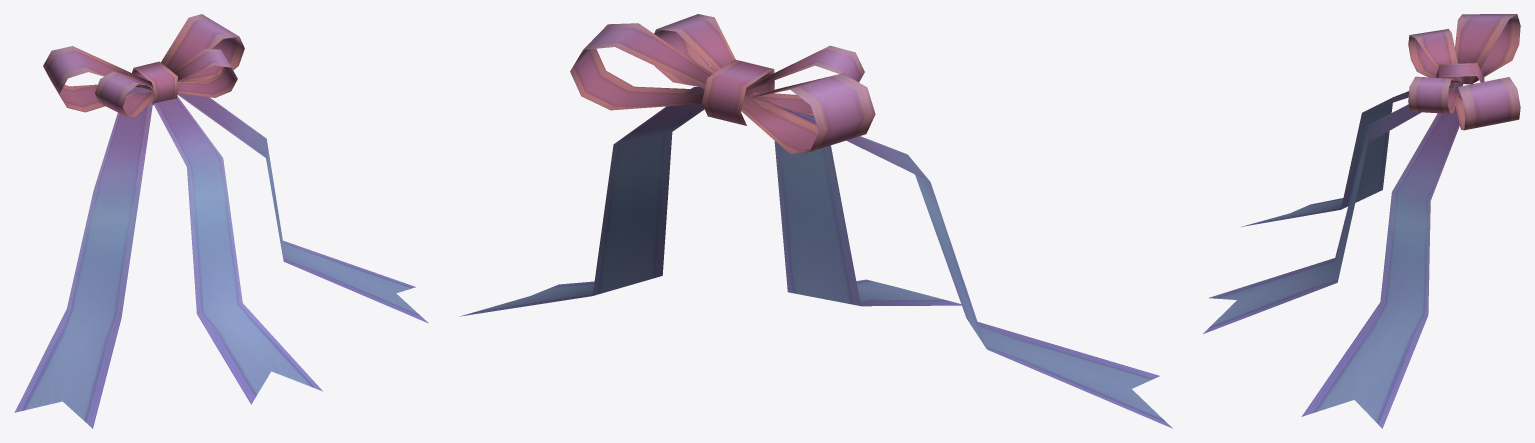
Rendered from Map_06_balloons05.FBX.
3 renders of one model, left to right at view 1: azimuth 30°, elevation 25°; view 2: azimuth 150°, elevation 25°; view 3: azimuth 270°, elevation 25°, orthographic. The views are drawn at different scales.
Visible parts, largest first — view 1: Map_06_balloons05; view 2: Map_06_balloons05; view 3: Map_06_balloons05.
Part boxes in pixels (<box>): Map_06_balloons05: <box>14,14,428,428</box>; Map_06_balloons05: <box>459,14,1172,428</box>; Map_06_balloons05: <box>1203,14,1520,428</box>.
Bounding box in the file's own units: 456 × 265 × 282.
Materials: 1 (1 with a texture image).
